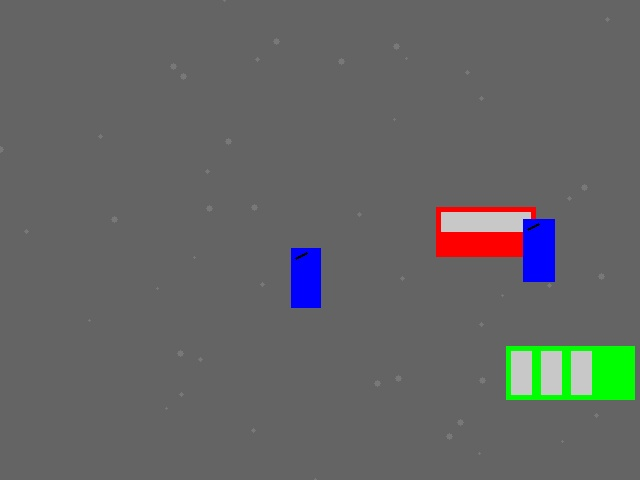bus: (506, 346, 634, 399)
car: (436, 207, 535, 256)
motorcycle: (523, 219, 554, 281), (291, 248, 320, 307)
